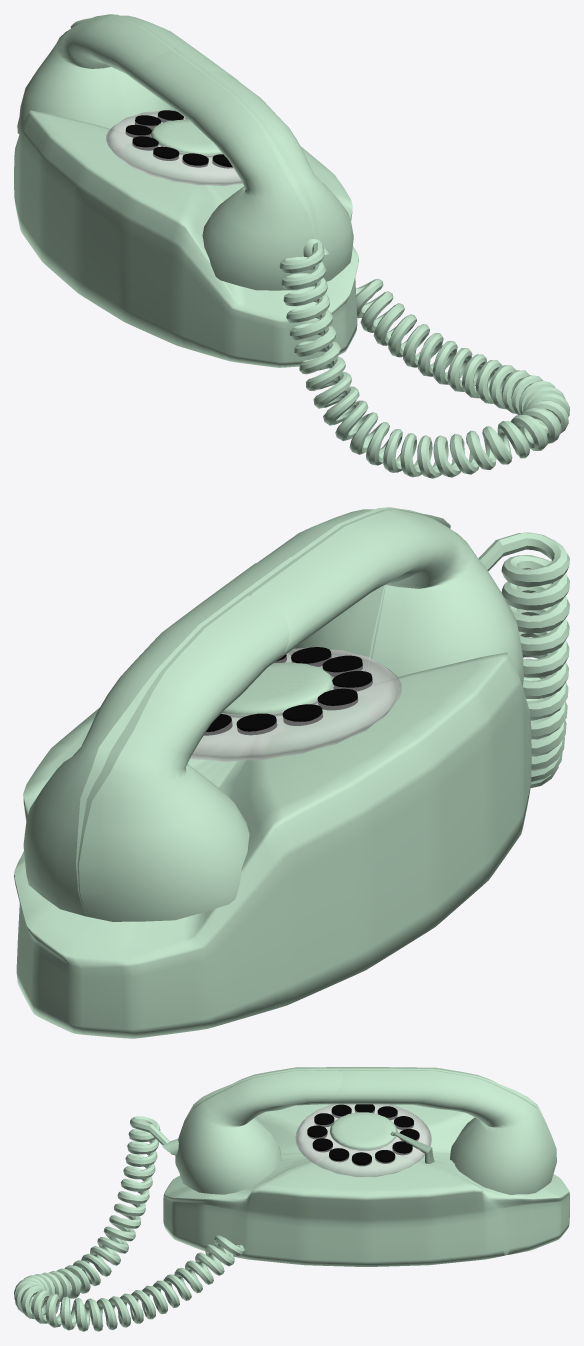
Rendered from phone (1).fbx.
The picture shows the model from 3 angles, top to bottom: view 1: azimuth 30°, elevation 25°; view 2: azimuth 150°, elevation 25°; view 3: azimuth 270°, elevation 25°; orthographic projection. The views are drawn at different scales.
Parts seen in each view (by area): view 1: phone, actual_phone, phone_cord, center_circle, center_circle1; view 2: phone, actual_phone, phone_cord, center_circle, center_circle1, pCylinder15, pCylinder16, teeny_tiny_circles, pCylinder17; view 3: phone, actual_phone, phone_cord, center_circle, center_circle1, idk1.
Boxes of the visible parts, x1=… form: phone: x1=14, y1=110, x2=358, y2=367; actual_phone: x1=17, y1=14, x2=353, y2=290; phone_cord: x1=279, y1=242, x2=569, y2=478; center_circle: x1=106, y1=110, x2=242, y2=185; center_circle1: x1=150, y1=120, x2=222, y2=157; phone: x1=14, y1=652, x2=531, y2=1038; actual_phone: x1=23, y1=507, x2=523, y2=921; phone_cord: x1=478, y1=532, x2=569, y2=788; center_circle: x1=190, y1=647, x2=401, y2=761; center_circle1: x1=221, y1=662, x2=333, y2=718; pCylinder15: x1=236, y1=713, x2=277, y2=735; pCylinder16: x1=282, y1=704, x2=323, y2=725; teeny_tiny_circles: x1=317, y1=688, x2=358, y2=710; pCylinder17: x1=332, y1=671, x2=372, y2=691; phone: x1=163, y1=1104, x2=569, y2=1266; actual_phone: x1=175, y1=1067, x2=556, y2=1194; phone_cord: x1=14, y1=1116, x2=244, y2=1331; center_circle: x1=295, y1=1104, x2=431, y2=1177; center_circle1: x1=329, y1=1112, x2=397, y2=1150; idk1: x1=390, y1=1131, x2=434, y2=1163.
Size of the model in its own units: 10.72 by 9.92 by 23.23.
